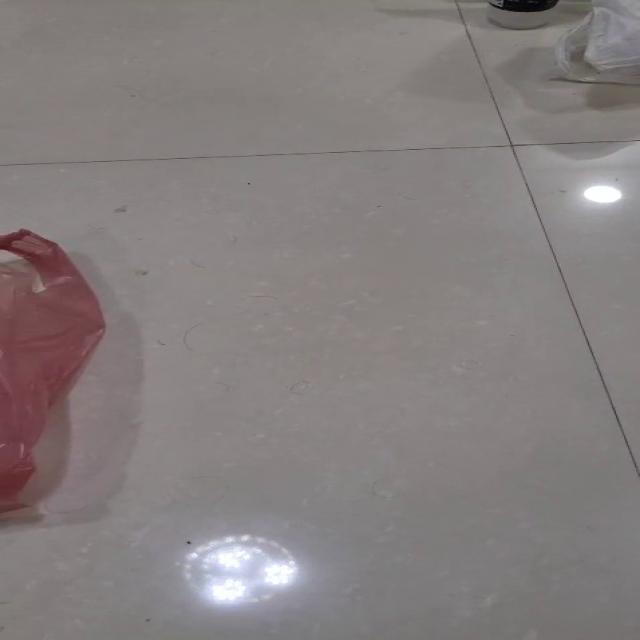plastic: (0, 227, 106, 513), (551, 0, 638, 84)
